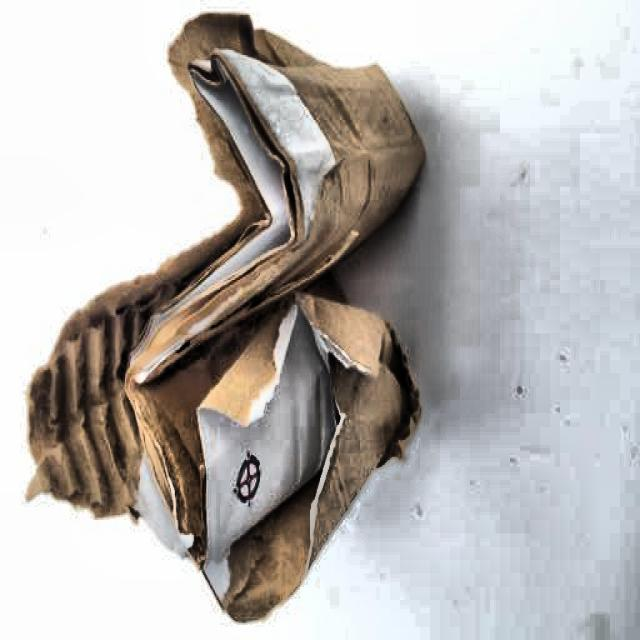cardboard: (31, 14, 424, 594)
